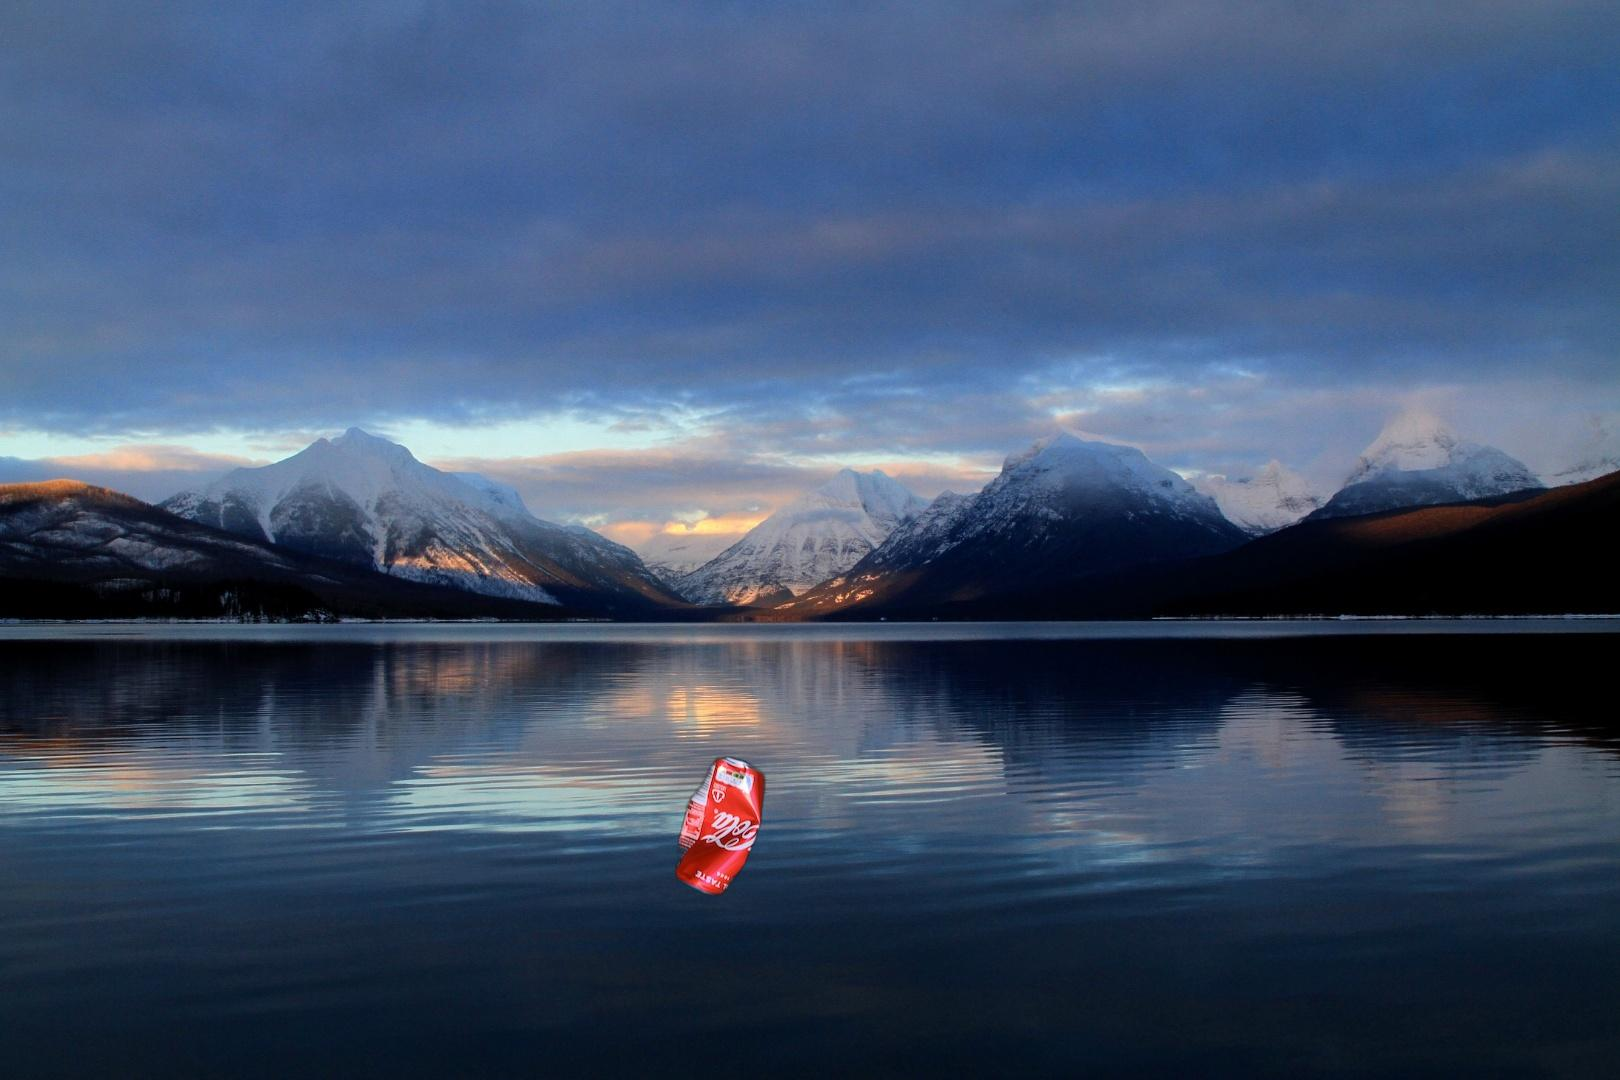metal-cans: (670, 750, 770, 902)
